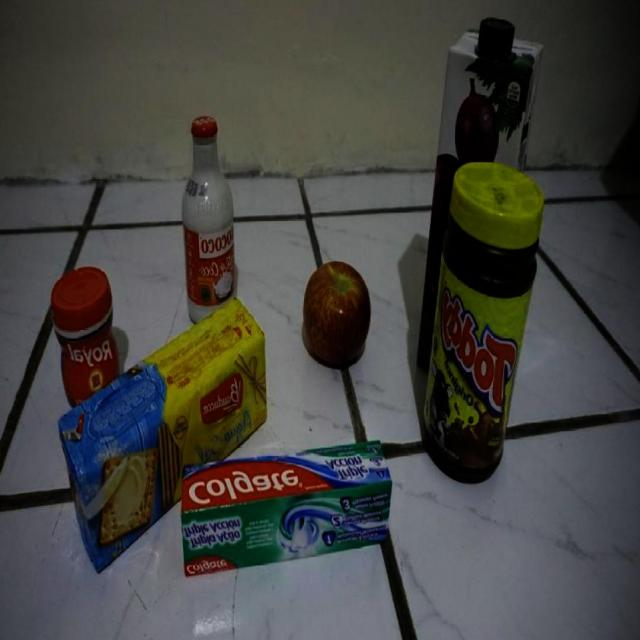Apple: (303, 259, 371, 367)
ChocolatePowder: (420, 162, 545, 500)
CoconutMilk: (182, 116, 235, 327)
Cracker: (58, 296, 266, 573)
Toothpaste: (179, 439, 393, 578)
Yeast: (50, 267, 121, 410)
